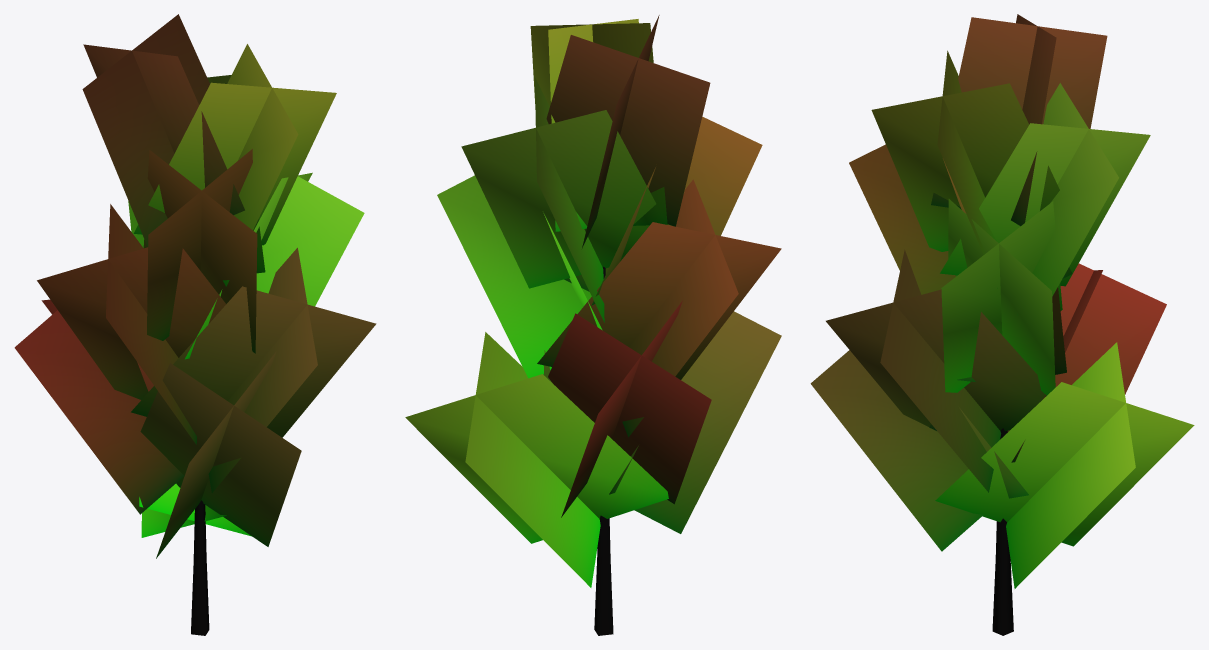
The model's file is SuperTree_19.fbx.
3 renders of one model, left to right at view 1: azimuth 30°, elevation 25°; view 2: azimuth 150°, elevation 25°; view 3: azimuth 270°, elevation 25°, orthographic. The views are drawn at different scales.
Parts seen in each view (by area): view 1: SuperTree_19; view 2: SuperTree_19; view 3: SuperTree_19.
Boxes of the visible parts, box(x1,y1,x2,y2) form: SuperTree_19: box(14, 14, 376, 635); SuperTree_19: box(405, 15, 781, 635); SuperTree_19: box(810, 14, 1194, 635).
Bounding box in the file's own units: 383 × 768 × 449.
